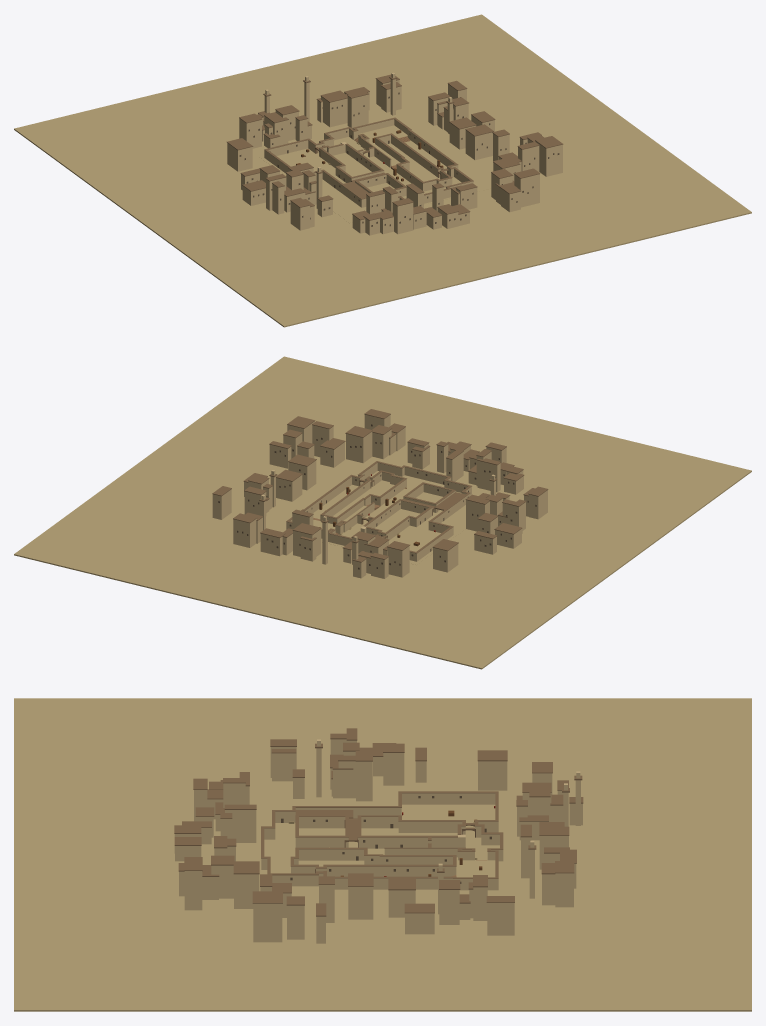
Rendered from de_aq_dust2.glb.
3 renders of one model, top to bottom at view 1: azimuth 30°, elevation 25°; view 2: azimuth 150°, elevation 25°; view 3: azimuth 270°, elevation 25°, orthographic. The views are drawn at different scales.
Visible parts, largest first — view 1: skyline, de_aq_dust2; view 2: skyline, de_aq_dust2; view 3: skyline, de_aq_dust2.
Boxes of the visible parts, <box> form: skyline: <box>14,14,751,327</box>; de_aq_dust2: <box>258,117,491,222</box>; skyline: <box>14,356,751,669</box>; de_aq_dust2: <box>266,460,490,564</box>; skyline: <box>14,698,751,1011</box>; de_aq_dust2: <box>258,791,507,906</box>.
Bounding box in the file's own units: 15120 × 1505 × 15120.
